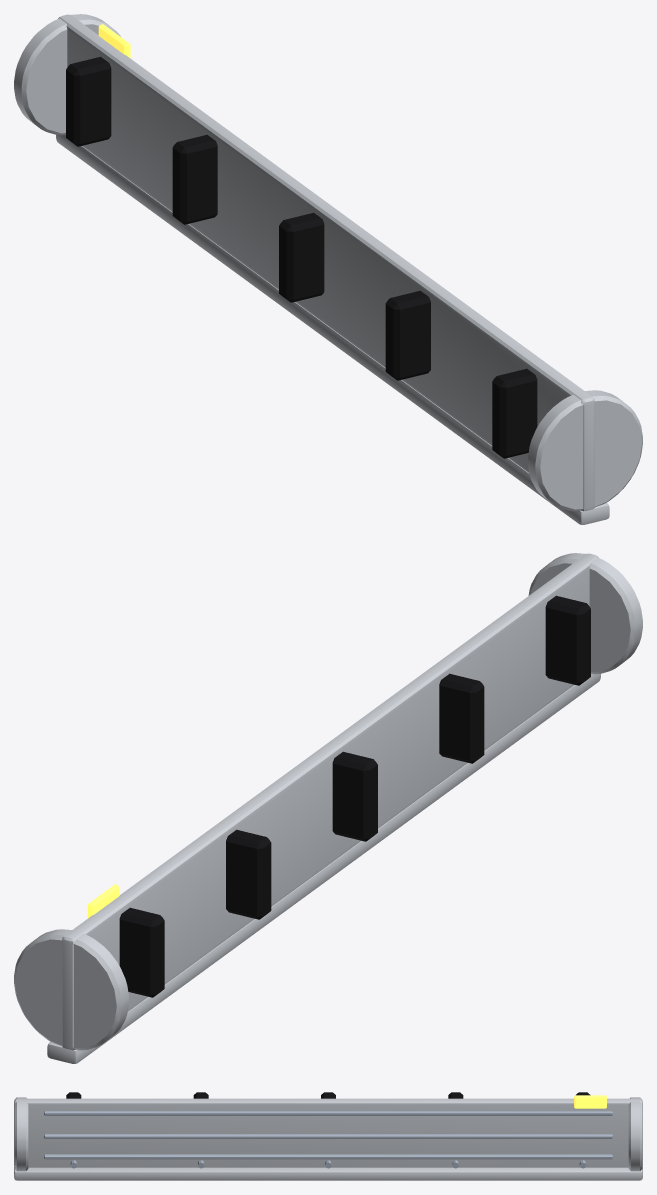
Rendered from skirt_chrome_panel.glb.
3 views of the same model, one above another, from view 1: azimuth 30°, elevation 25°; view 2: azimuth 150°, elevation 25°; view 3: azimuth 270°, elevation 25° (orthographic). The views are drawn at different scales.
Parts seen in each view (by area): view 1: chrome, plastic_black; view 2: chrome, plastic_black; view 3: chrome, steel, lamp_amber, plastic_black.
Boxes of the visible parts, bbox=[...] form: chrome: bbox=[14, 14, 642, 524]; plastic_black: bbox=[66, 56, 537, 458]; chrome: bbox=[14, 553, 642, 1063]; plastic_black: bbox=[119, 595, 590, 997]; chrome: bbox=[14, 1097, 642, 1180]; steel: bbox=[44, 1111, 612, 1168]; lamp_amber: bbox=[574, 1095, 606, 1108]; plastic_black: bbox=[66, 1092, 590, 1098].
Size of the model in its own units: 0.4953 by 0.6 by 4.2.
